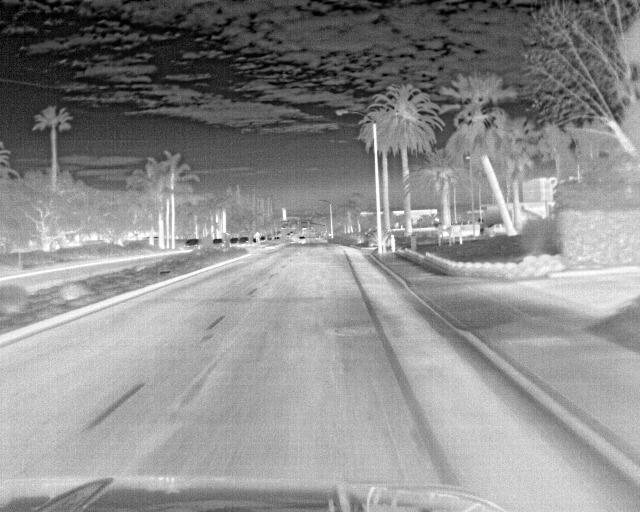car: (181, 238, 200, 253), (225, 235, 240, 249), (237, 236, 250, 249), (211, 236, 224, 248), (296, 235, 306, 244)
